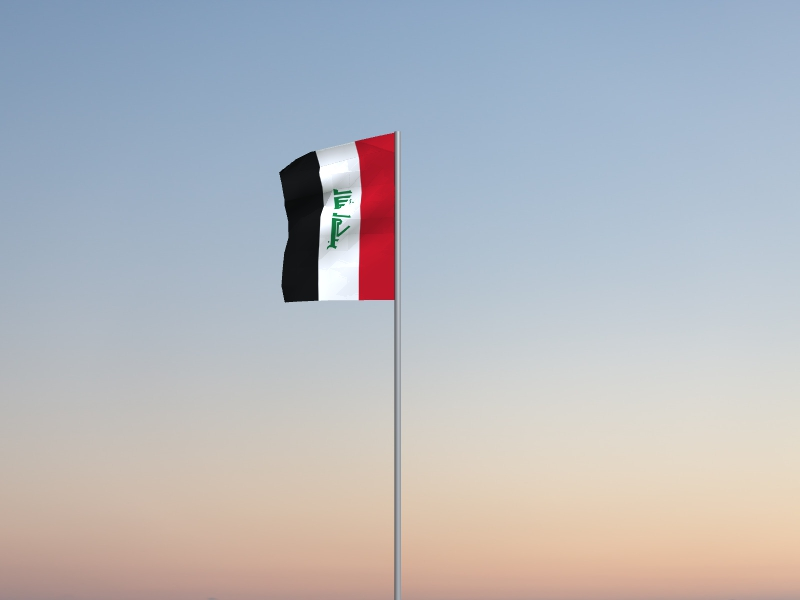iq: (279, 134, 395, 304)
